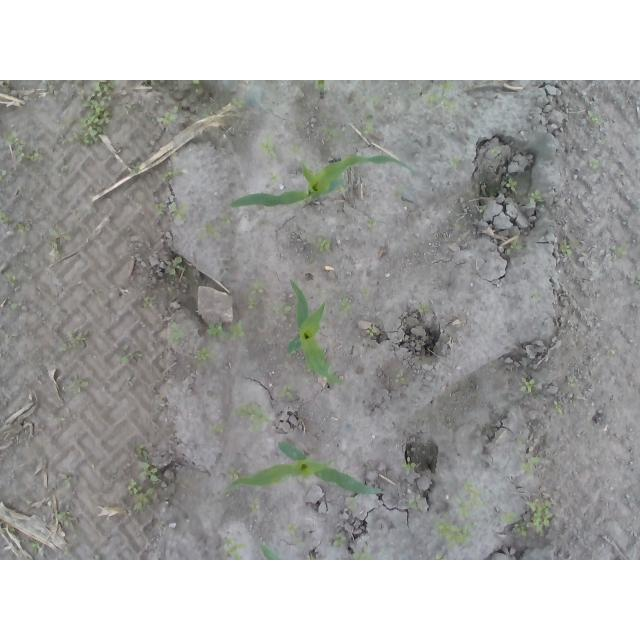Maize: (229, 155, 415, 206), (226, 439, 383, 495), (287, 279, 342, 386), (261, 541, 285, 560), (316, 81, 327, 100)
Weeds: (126, 443, 162, 513), (79, 80, 113, 145), (525, 495, 560, 537), (433, 517, 476, 550), (231, 401, 273, 434), (456, 481, 488, 518), (426, 82, 458, 115), (361, 94, 383, 135), (499, 510, 529, 537), (1, 128, 24, 160), (0, 210, 32, 233), (206, 320, 246, 338), (59, 327, 86, 353), (247, 277, 265, 311), (225, 534, 248, 560), (48, 223, 66, 256), (520, 455, 541, 480), (171, 203, 192, 226), (197, 221, 220, 240), (167, 319, 184, 344), (505, 240, 530, 256), (194, 346, 217, 362), (68, 375, 88, 393), (528, 188, 545, 208), (158, 110, 179, 126), (400, 457, 417, 476), (280, 383, 296, 402), (169, 255, 183, 276), (320, 127, 337, 144), (519, 375, 535, 393), (350, 549, 376, 560), (590, 111, 606, 127), (337, 295, 351, 313), (152, 201, 168, 216), (160, 170, 178, 183), (529, 289, 544, 304), (24, 539, 40, 553), (560, 240, 573, 257), (289, 143, 303, 157), (319, 238, 334, 251), (113, 352, 128, 365), (506, 175, 518, 191), (553, 400, 564, 417), (5, 270, 16, 287), (232, 96, 245, 110), (229, 464, 240, 480), (263, 135, 272, 154), (287, 521, 299, 535), (394, 372, 407, 384), (449, 155, 460, 169), (491, 144, 502, 158), (630, 272, 640, 287), (406, 497, 418, 509), (334, 534, 346, 546), (62, 473, 70, 491), (364, 324, 376, 336), (27, 151, 40, 162), (213, 423, 226, 434), (0, 169, 10, 183), (249, 502, 260, 513), (419, 303, 430, 314), (591, 158, 601, 170), (616, 246, 625, 258), (368, 218, 377, 230), (143, 295, 153, 305), (131, 161, 139, 173), (271, 174, 281, 182), (58, 509, 66, 519), (10, 303, 18, 312), (478, 205, 486, 213), (222, 219, 231, 226), (192, 80, 201, 84)
